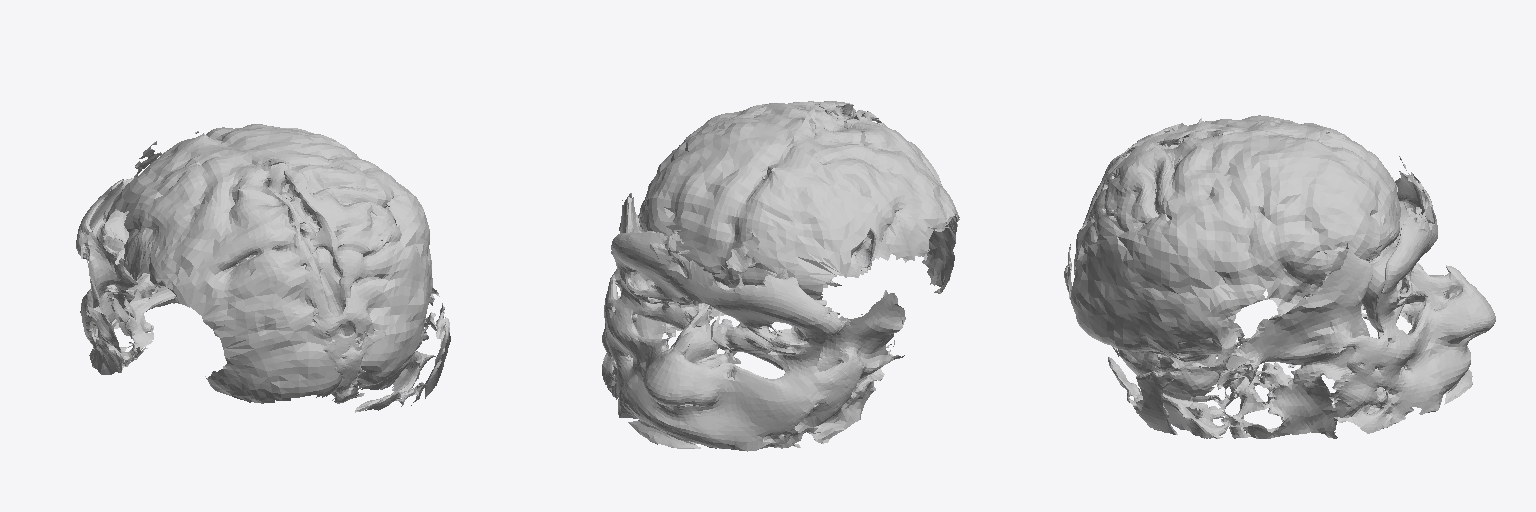
The model's file is brain.obj.
3 renders of one model, left to right at view 1: azimuth 30°, elevation 25°; view 2: azimuth 150°, elevation 25°; view 3: azimuth 270°, elevation 25°, orthographic.
Parts seen in each view (by area): view 1: Retopo_Brain-Decimated_mesh.005; view 2: Retopo_Brain-Decimated_mesh.005; view 3: Retopo_Brain-Decimated_mesh.005.
Part boxes in pixels (bbox=[...]): Retopo_Brain-Decimated_mesh.005: bbox=[76, 124, 450, 412]; Retopo_Brain-Decimated_mesh.005: bbox=[602, 101, 959, 451]; Retopo_Brain-Decimated_mesh.005: bbox=[1064, 115, 1495, 438].
Size of the model in its own units: 66.55 by 52.73 by 83.96.